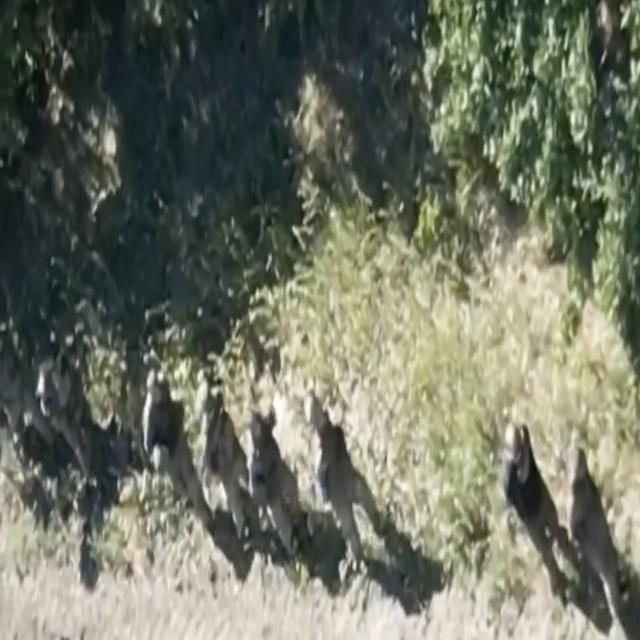infantry: (302, 390, 342, 516), (138, 360, 172, 475), (191, 374, 231, 467), (560, 430, 592, 545), (502, 414, 532, 501), (35, 357, 65, 443), (248, 414, 277, 488)
